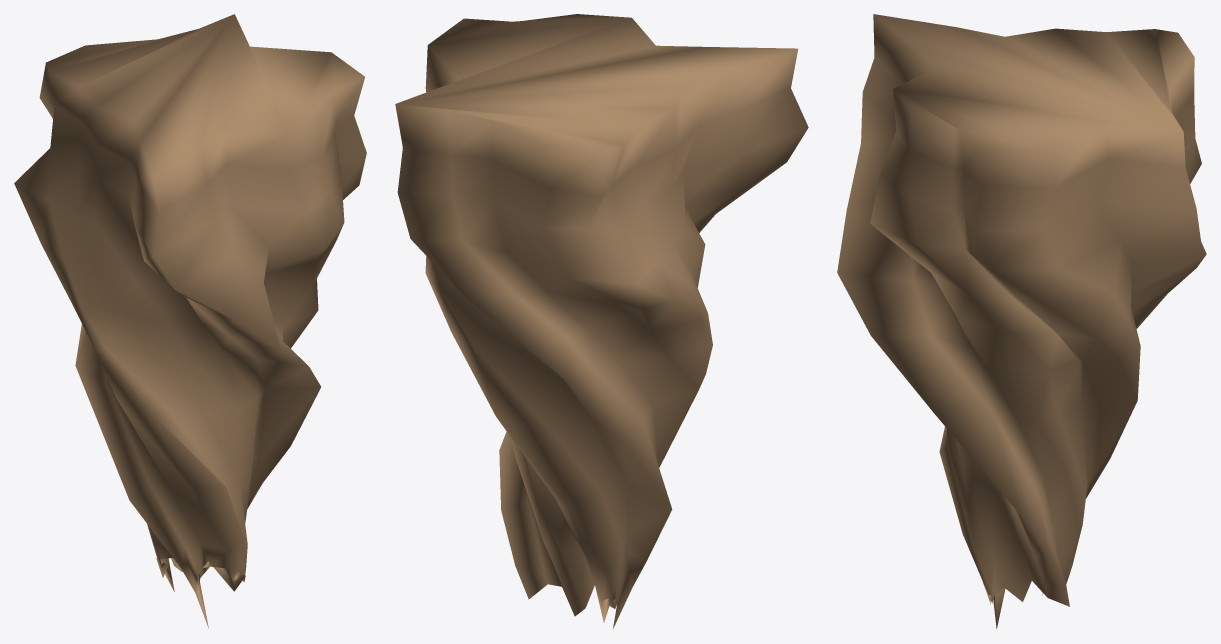
File: CLIFF_04_v01.fbx
3 renders of one model, left to right at view 1: azimuth 30°, elevation 25°; view 2: azimuth 150°, elevation 25°; view 3: azimuth 270°, elevation 25°, orthographic. The views are drawn at different scales.
Visible parts, largest first — view 1: Connect_1; view 2: Connect_1; view 3: Connect_1.
Part boxes in pixels (x1,y1,x2,y2): Connect_1: [14, 14, 366, 628]; Connect_1: [395, 14, 808, 628]; Connect_1: [837, 14, 1206, 628].
Bounding box in the file's own units: 647 × 1216 × 732.
